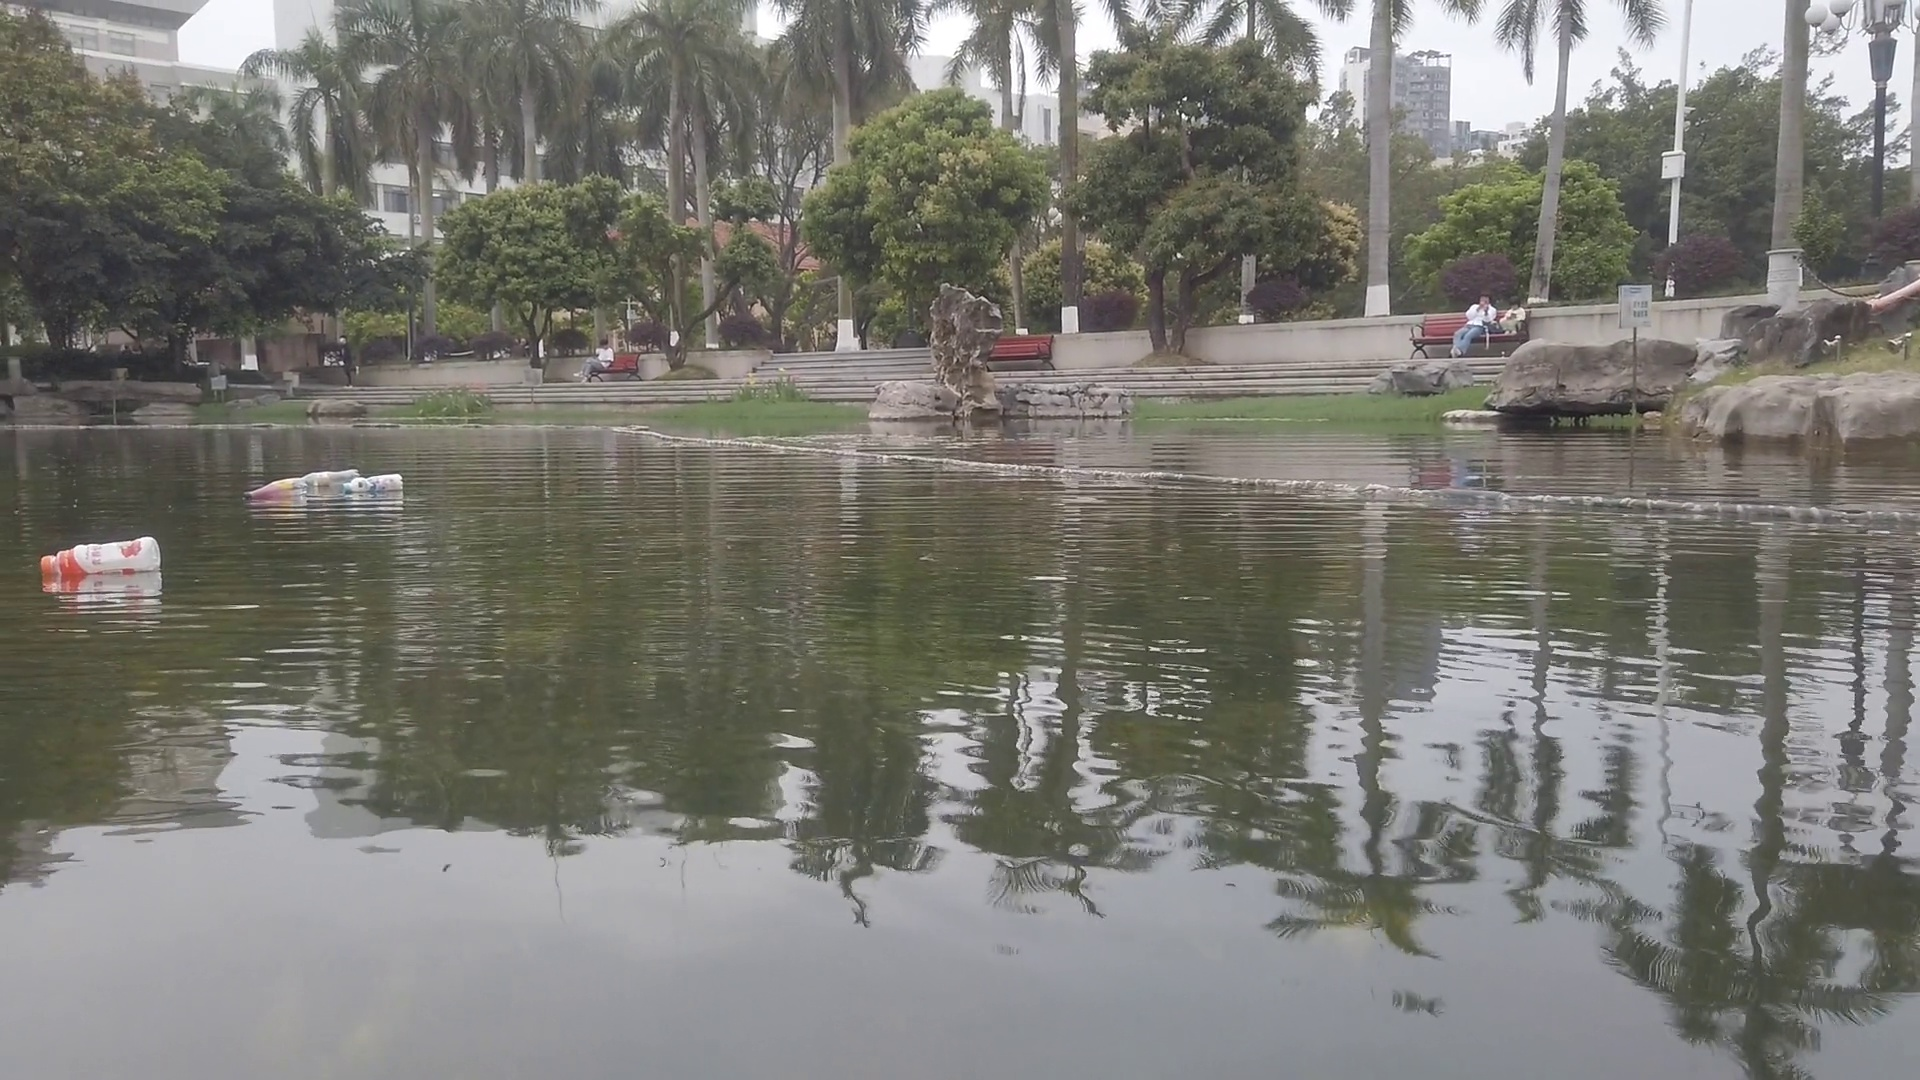bottle: (41, 535, 164, 578), (303, 468, 364, 495), (243, 477, 309, 498), (345, 472, 406, 495)
